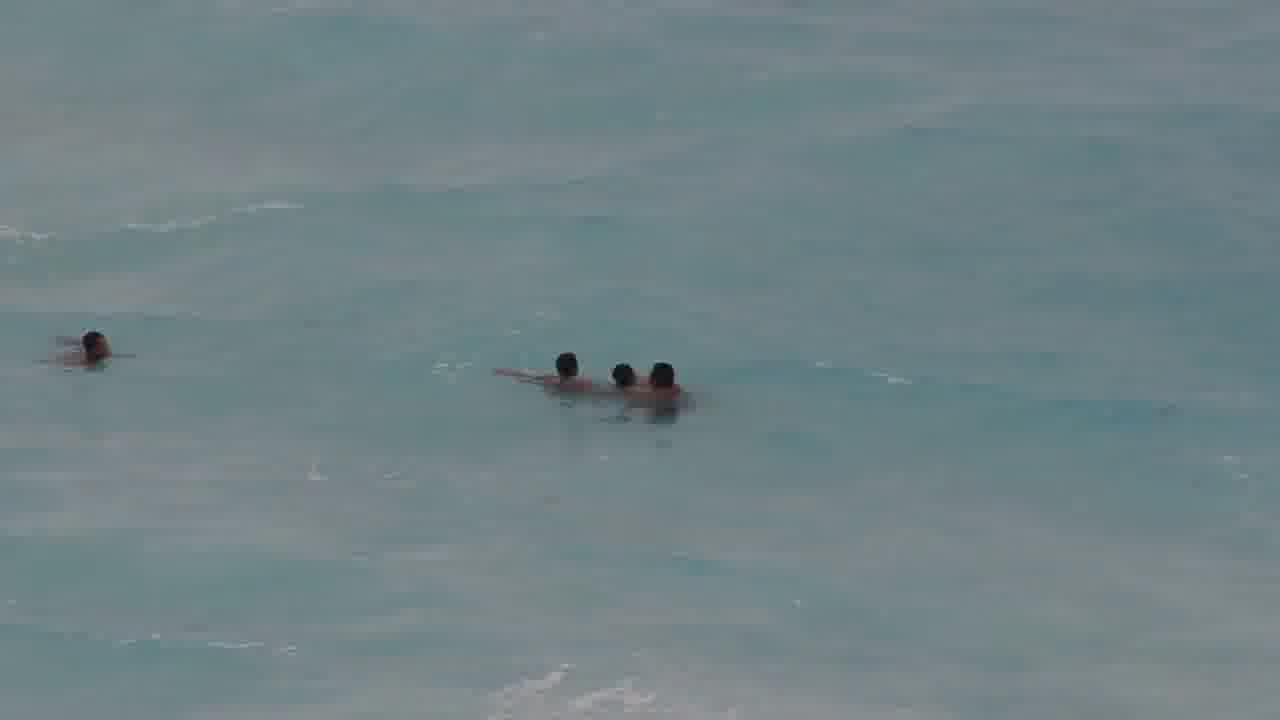human: (488, 350, 601, 398), (50, 326, 133, 379), (640, 353, 693, 400), (599, 352, 641, 402)
